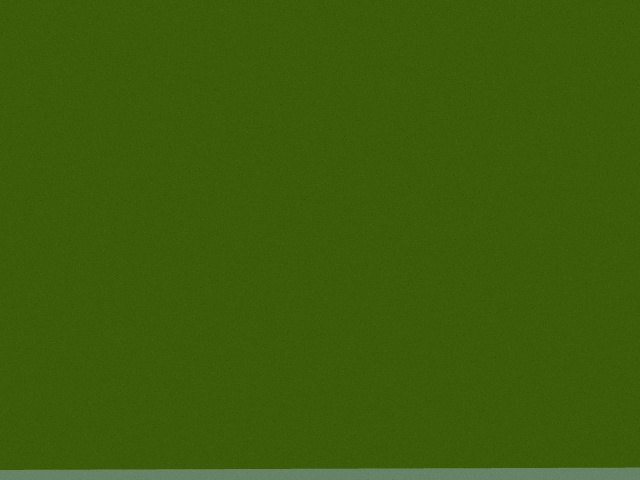green_drop_zone: (0, 0, 640, 470)
